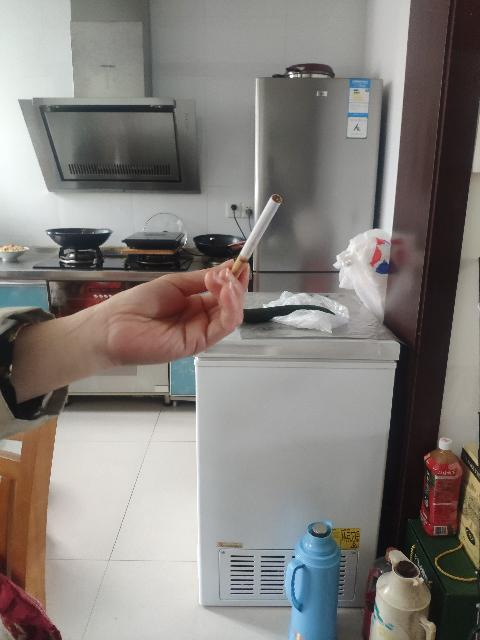Cigarette: (222, 194, 284, 288)
